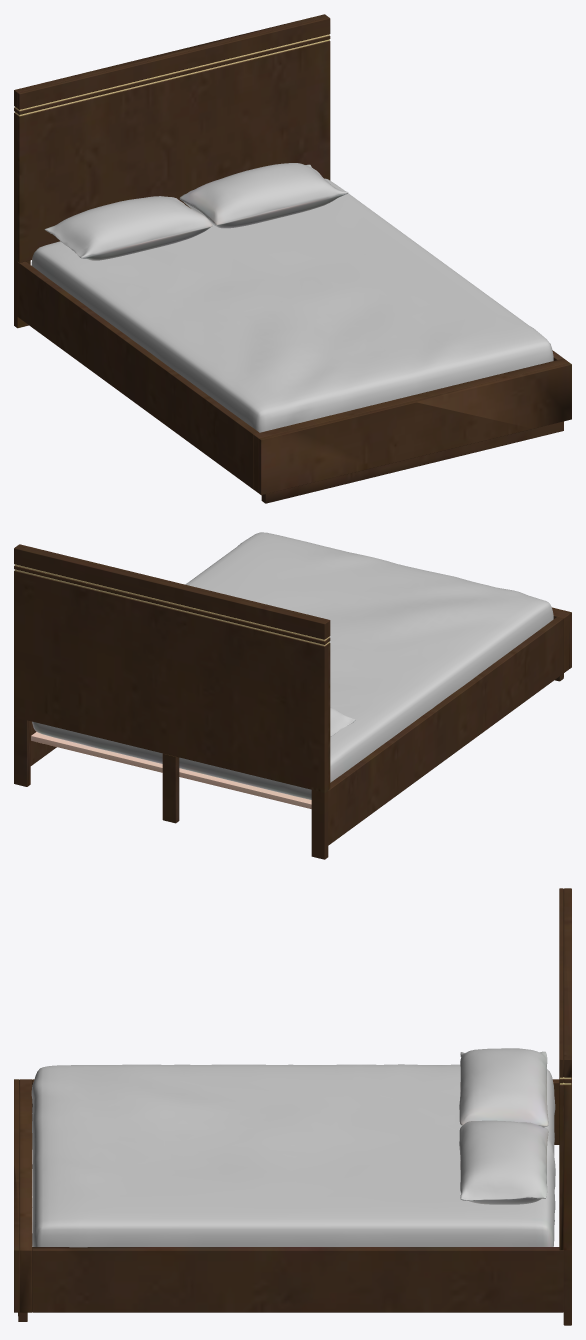
File: bed-queen.glb
3 views of the same model, one above another, from view 1: azimuth 30°, elevation 25°; view 2: azimuth 150°, elevation 25°; view 3: azimuth 270°, elevation 25° (orthographic). The views are drawn at different scales.
Visible parts, largest first — view 1: RootNode; view 2: RootNode; view 3: RootNode.
Part boxes in pixels (bbox=[...]): RootNode: bbox=[14, 14, 571, 503]; RootNode: bbox=[14, 532, 571, 859]; RootNode: bbox=[14, 888, 571, 1325].
Bounding box in the file's own units: 1.61 × 1.17 × 2.22.
Materials: 1 (1 with a texture image).
